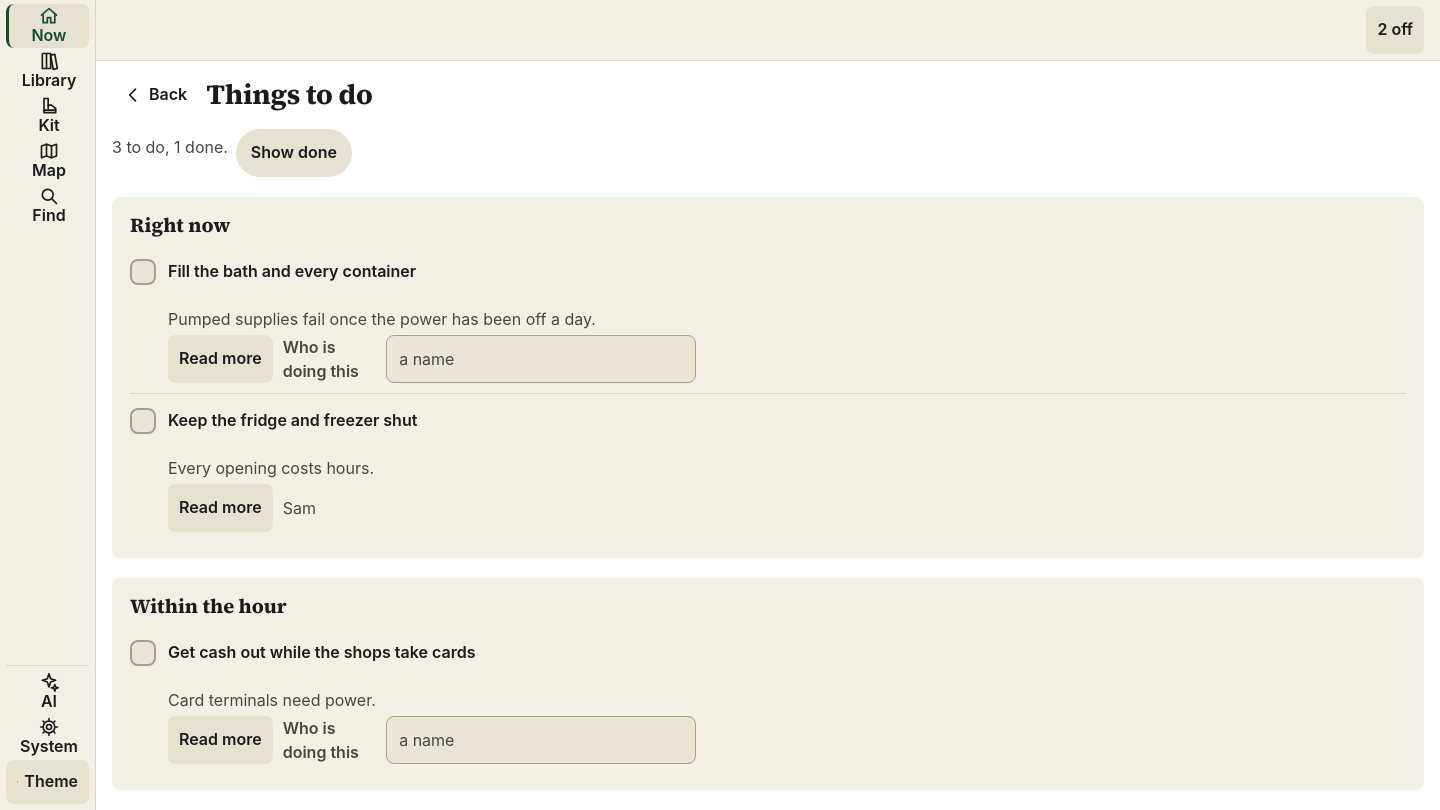
Test: Tasks › shows the done ones on request, struck through
# The filter is a chip, not a tick: a filter and a job must not look like the same control.
Click the button "Show done": (294, 153) [236, 129, 352, 177]
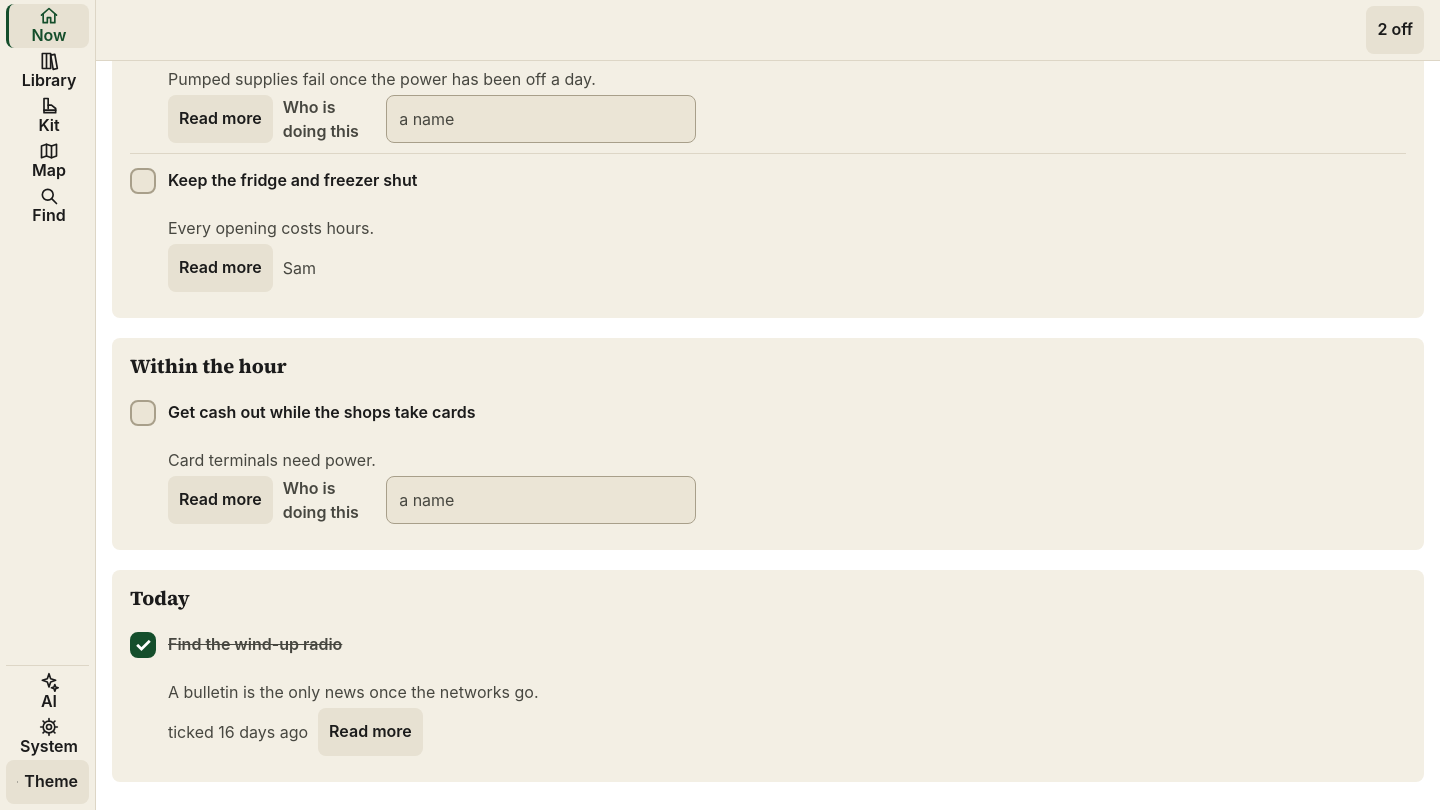
Expected: the checkbox labelled "Find the wind-up radio" is checked, [130, 632, 156, 658]
